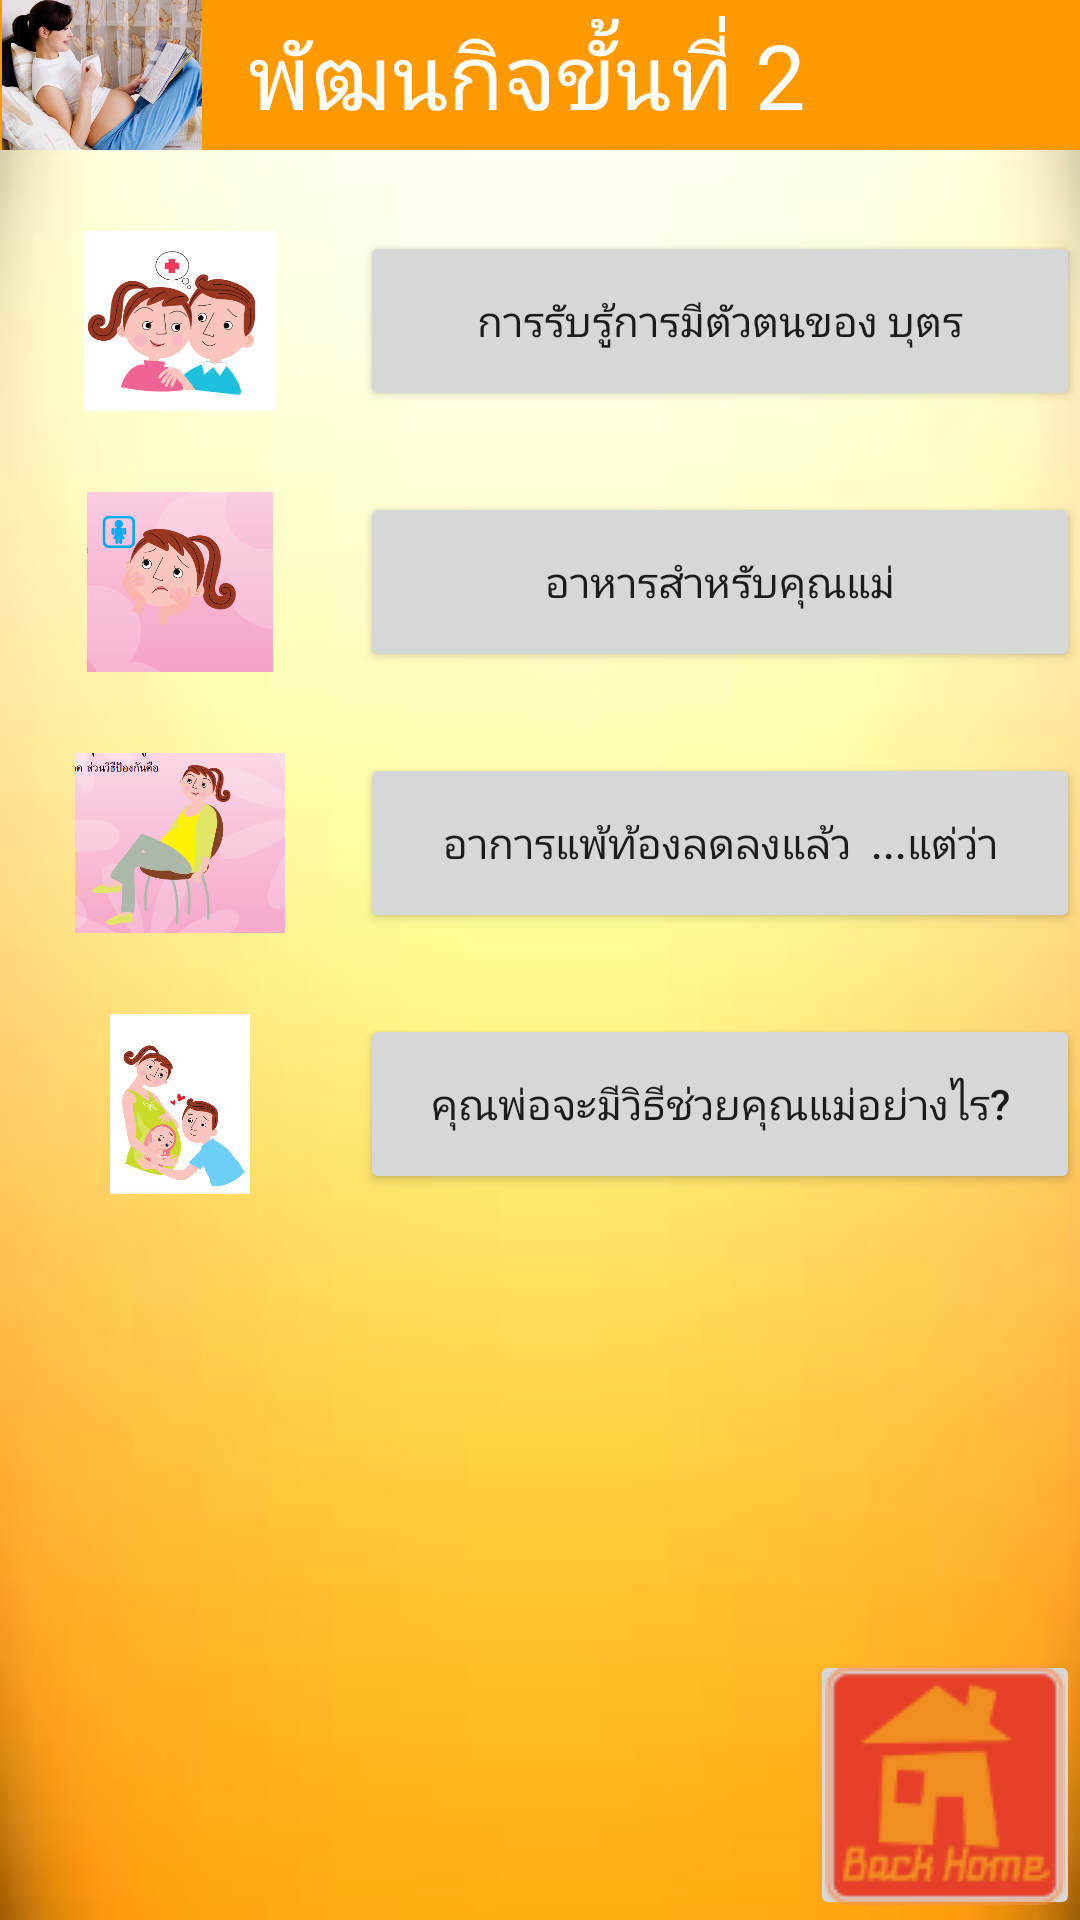

Screen size 1080 x 1920. Icon name, then its center in pixels as [x,y]:
mom: [102,75]
strain: [136,582]
